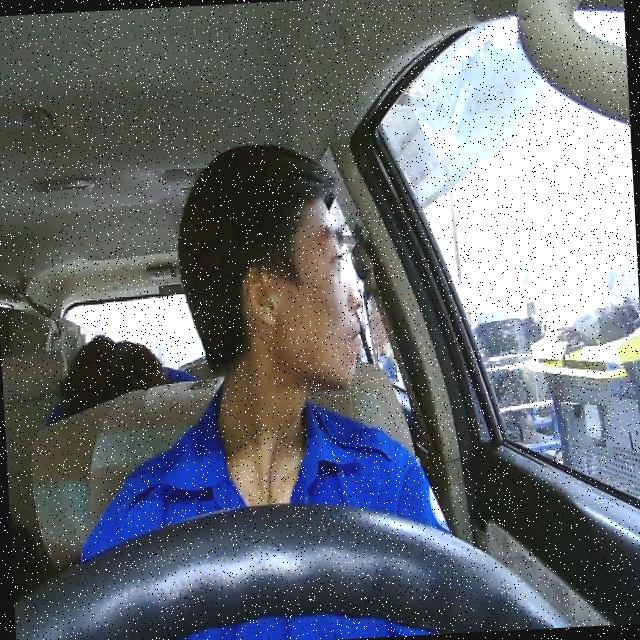seeing_right: (234, 189, 368, 396)
